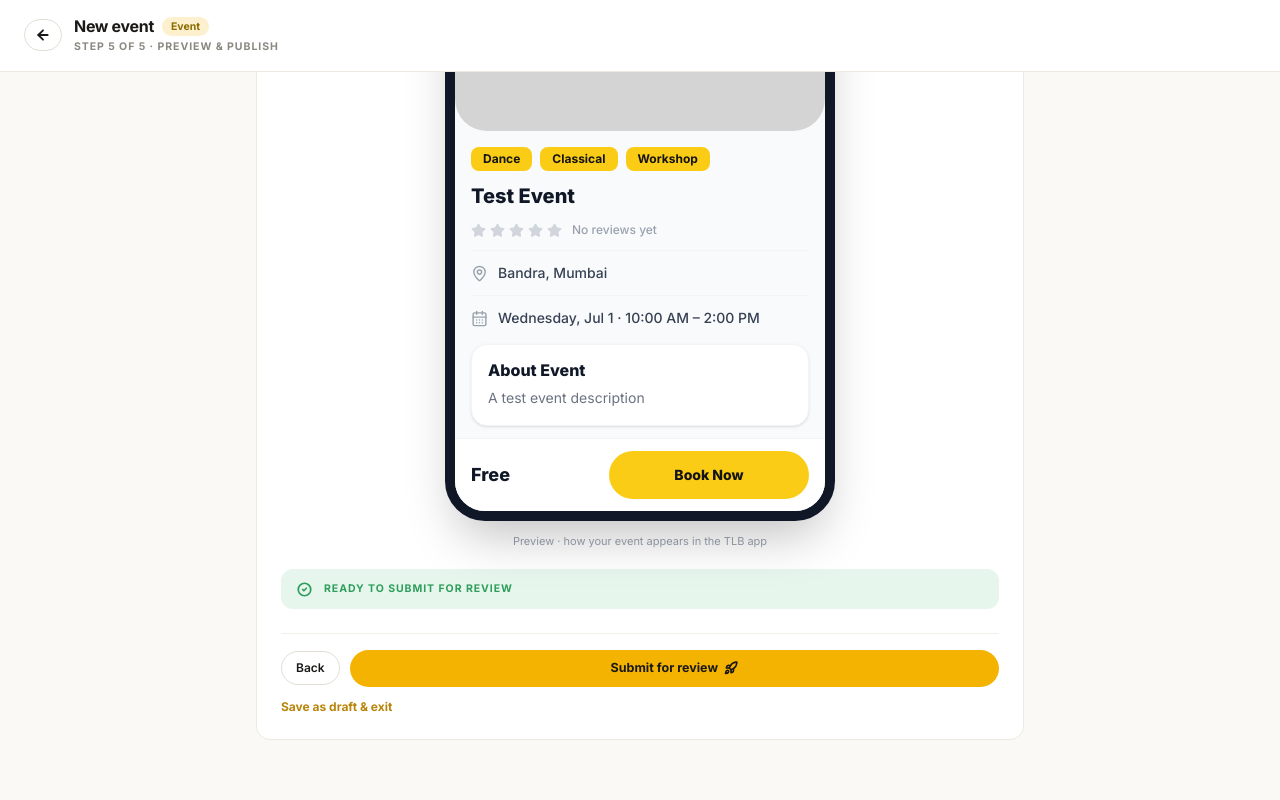
CreateEventPreview — submit modals › does NOT show Profile Under Review for non-PARTNER_UNDER_REVIEW errors
The image size is (1280, 800).
(page scrolled)
Click the button "Submit for review": {"x": 674, "y": 668} [350, 650, 999, 687]
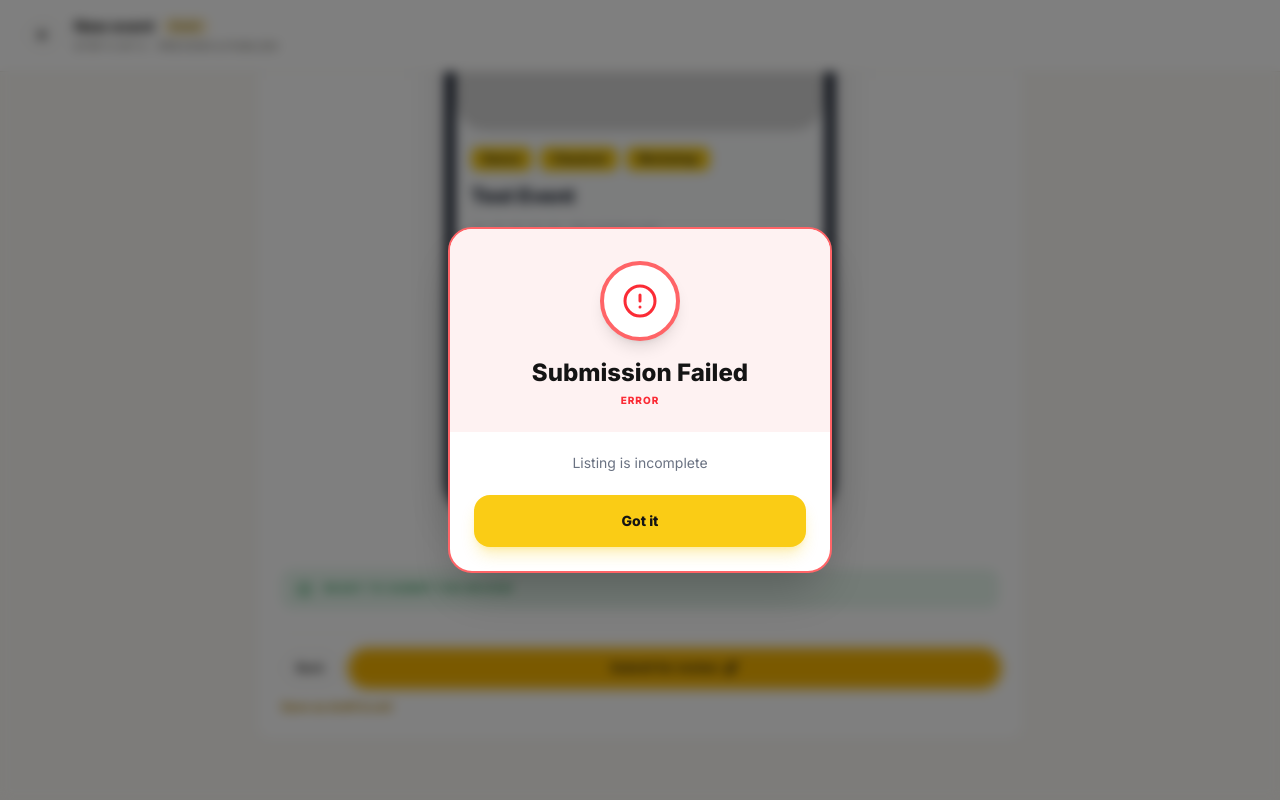
expect the heading "Submission Failed" is shown: met, box [532, 357, 748, 389]
